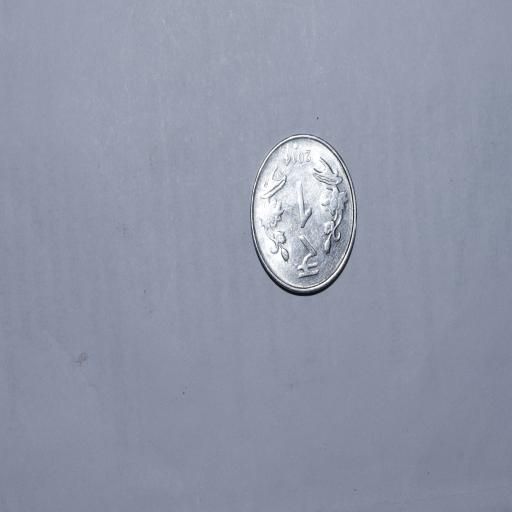rupee1: (249, 135, 356, 294)
